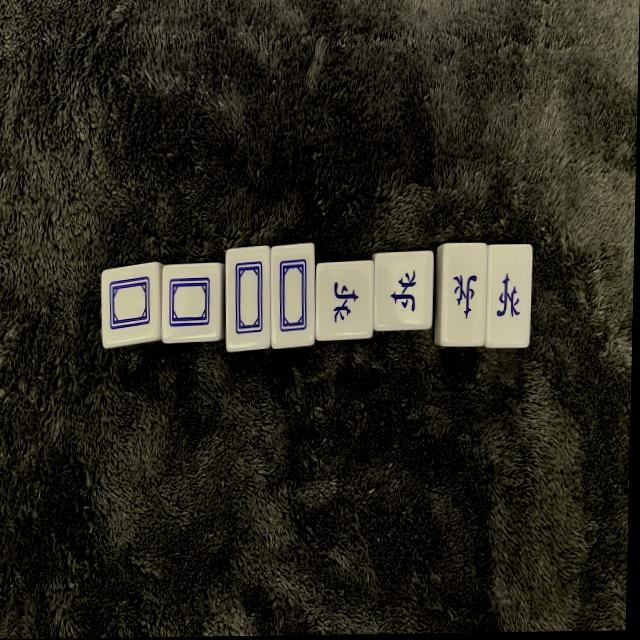bai: (100, 266, 161, 347), (223, 248, 271, 350), (160, 265, 221, 343), (268, 245, 315, 346)
north: (438, 244, 487, 344), (486, 247, 532, 348)
west: (372, 252, 434, 329), (316, 263, 374, 340)
